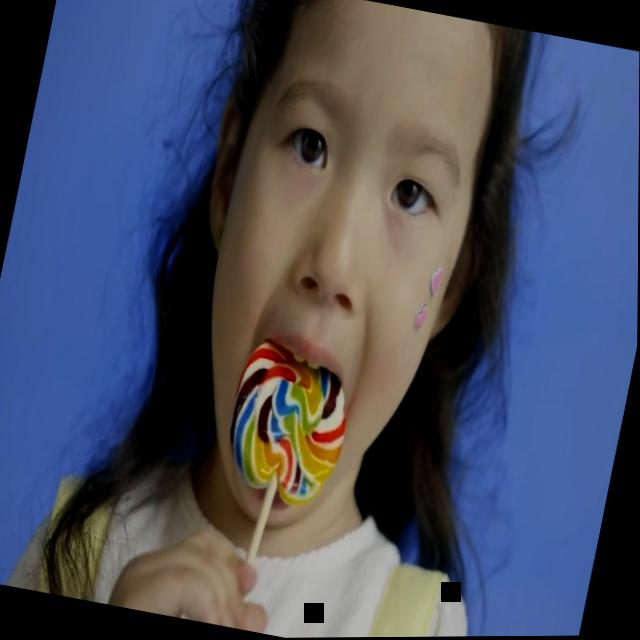NO-Mask: (165, 0, 506, 553)
